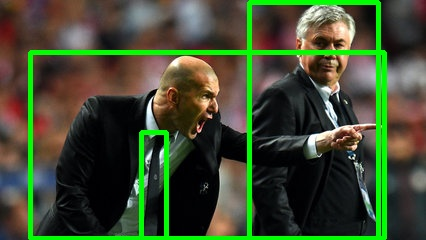person: (30, 52, 384, 238), (249, 2, 378, 238)
tie: (141, 132, 166, 238)
